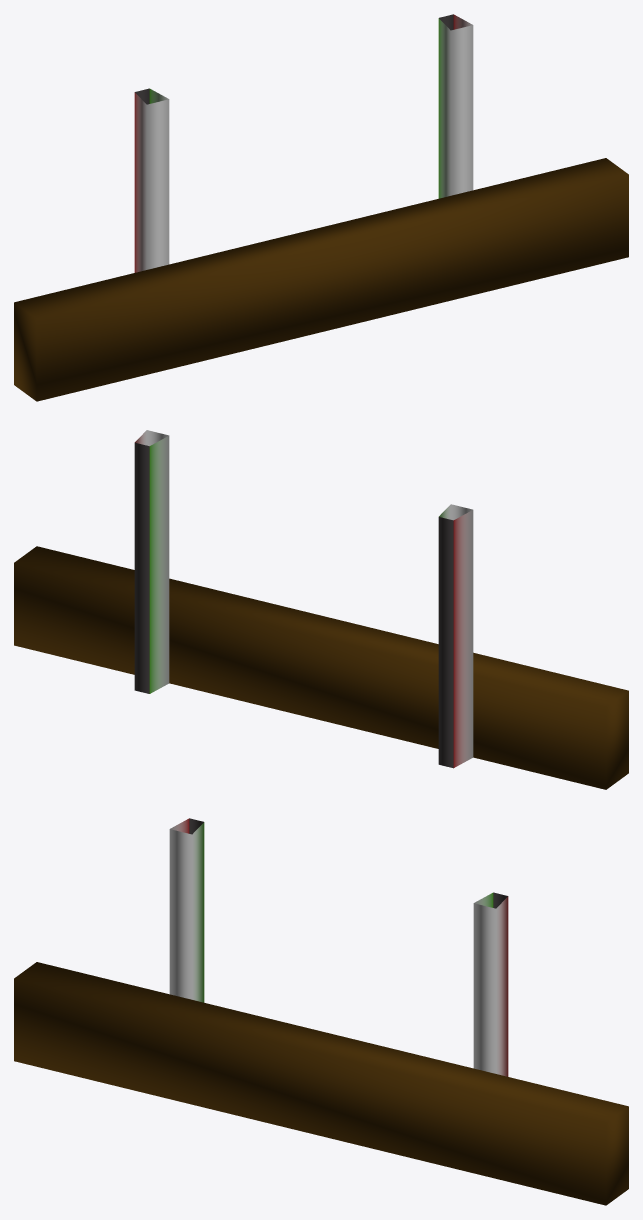
The model's file is RailsSegment_LOD0.fbx.
3 renders of one model, top to bottom at view 1: azimuth 30°, elevation 25°; view 2: azimuth 150°, elevation 25°; view 3: azimuth 330°, elevation 25°, orthographic.
Parts seen in each view (by area): view 1: LP_RailsSegment_LOD0; view 2: LP_RailsSegment_LOD0; view 3: LP_RailsSegment_LOD0.
Boxes of the visible parts, x1,y1,x2,y2 form: LP_RailsSegment_LOD0: [14, 14, 628, 401]; LP_RailsSegment_LOD0: [14, 430, 628, 789]; LP_RailsSegment_LOD0: [14, 818, 628, 1205].
Size of the model in its own units: 3 by 1.2 by 0.34.
